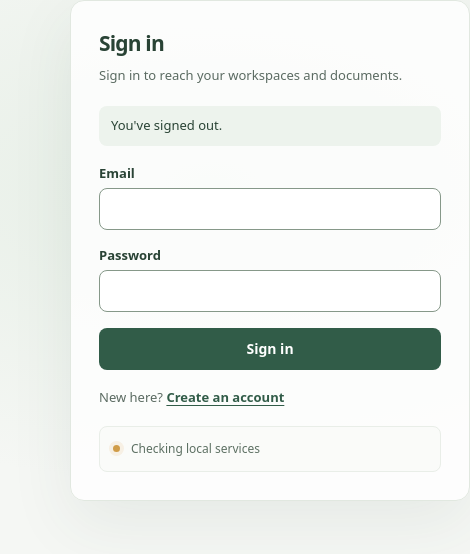
Test: AuthCard › explains rejected credentials and lets the user try again
Expected: the text "You've signed out." is shown, [99,106,441,146]
Type "reader@example.com" into the field labelled "Email" at point(270, 209), box [99,188,441,230]
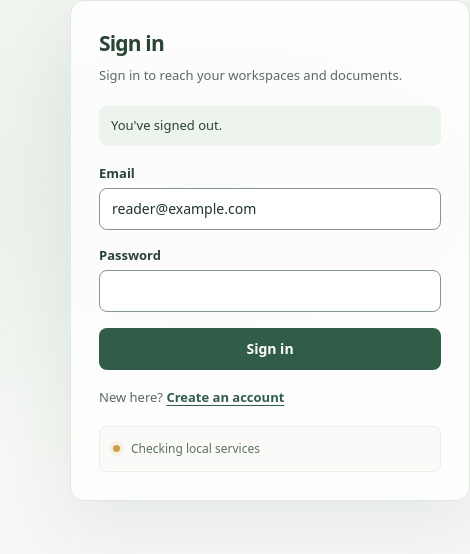
Type "correct horse battery" into the password field labelled "Password" at point(270, 291), box [99,270,441,312]
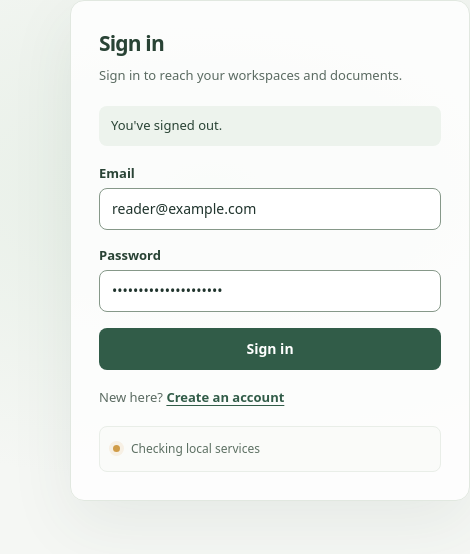
Click the button "Sign in" at point(270, 349), box [99,328,441,370]
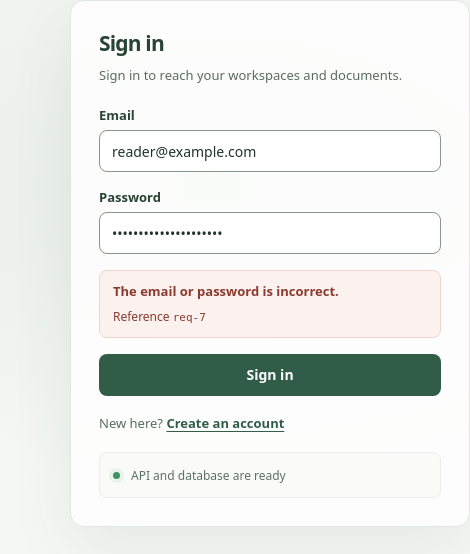
Expected: the button "Sign in" is enabled, [99,354,441,396]
Expected: the message "The email or password is incorrect. Reference req-7" is shown, [99,270,441,338]
Expected: the text "You've signed out." is gone
